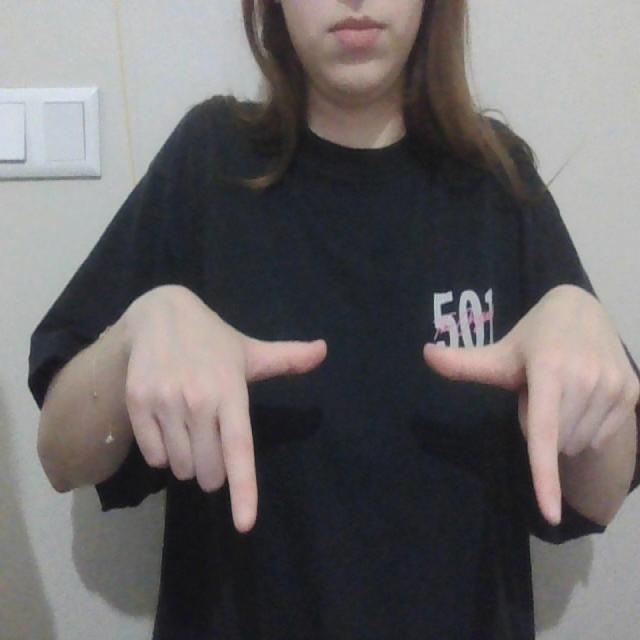Nerede: (188, 316, 574, 538)
